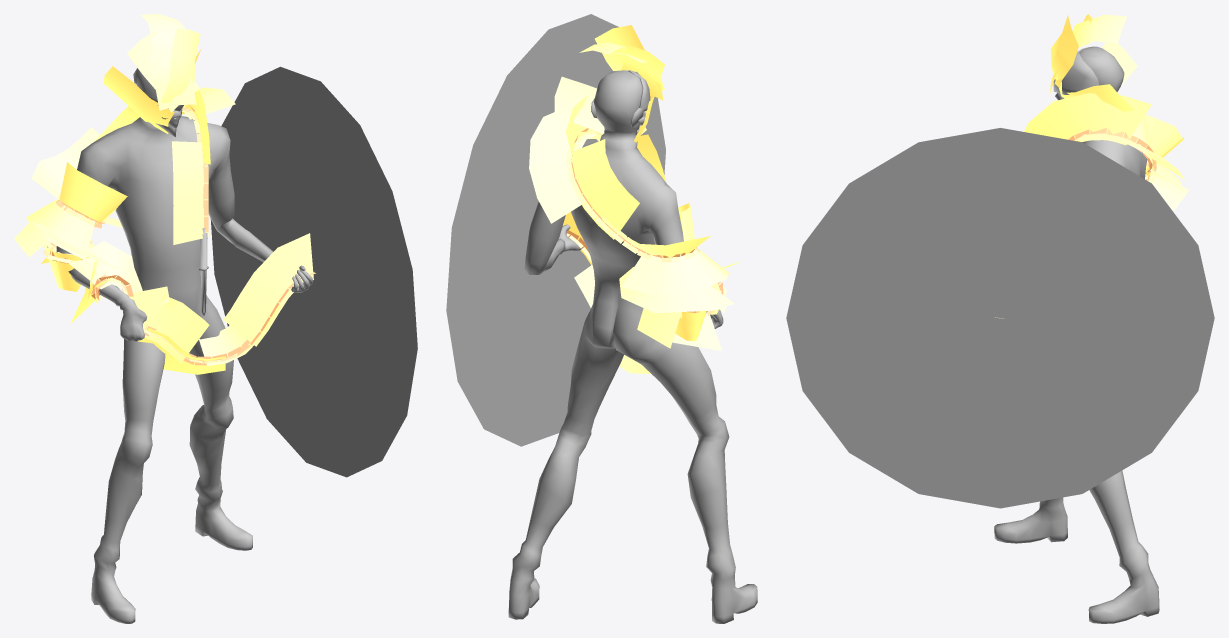
The picture shows the model from 3 angles, left to right: view 1: azimuth 30°, elevation 25°; view 2: azimuth 150°, elevation 25°; view 3: azimuth 270°, elevation 25°; orthographic projection. The views are drawn at different scales.
Parts seen in each view (by area): view 1: corrente_giro, ghost, fogo_corrente, fogo_cabeca, corrente, knife; view 2: corrente_giro, ghost, fogo_corrente, fogo_cabeca, corrente; view 3: corrente_giro, ghost, fogo_corrente, fogo_cabeca, corrente.
Part boxes in pixels (x1,y1,x2,y2): corrente_giro: (210, 66, 417, 477); ghost: (56, 68, 313, 623); fogo_corrente: (14, 80, 313, 374); fogo_cabeca: (103, 14, 200, 133); corrente: (42, 105, 315, 365); knife: (199, 228, 208, 318); corrente_giro: (446, 14, 665, 446); ghost: (508, 70, 757, 623); fogo_corrente: (529, 95, 740, 373); fogo_cabeca: (554, 25, 664, 142); corrente: (566, 128, 723, 315); corrente_giro: (786, 128, 1214, 508); ghost: (994, 46, 1159, 623); fogo_corrente: (1024, 93, 1188, 210); fogo_cabeca: (1050, 14, 1137, 111); corrente: (995, 128, 1156, 318).
Bounding box in the file's own units: 488 × 1092 × 752.
